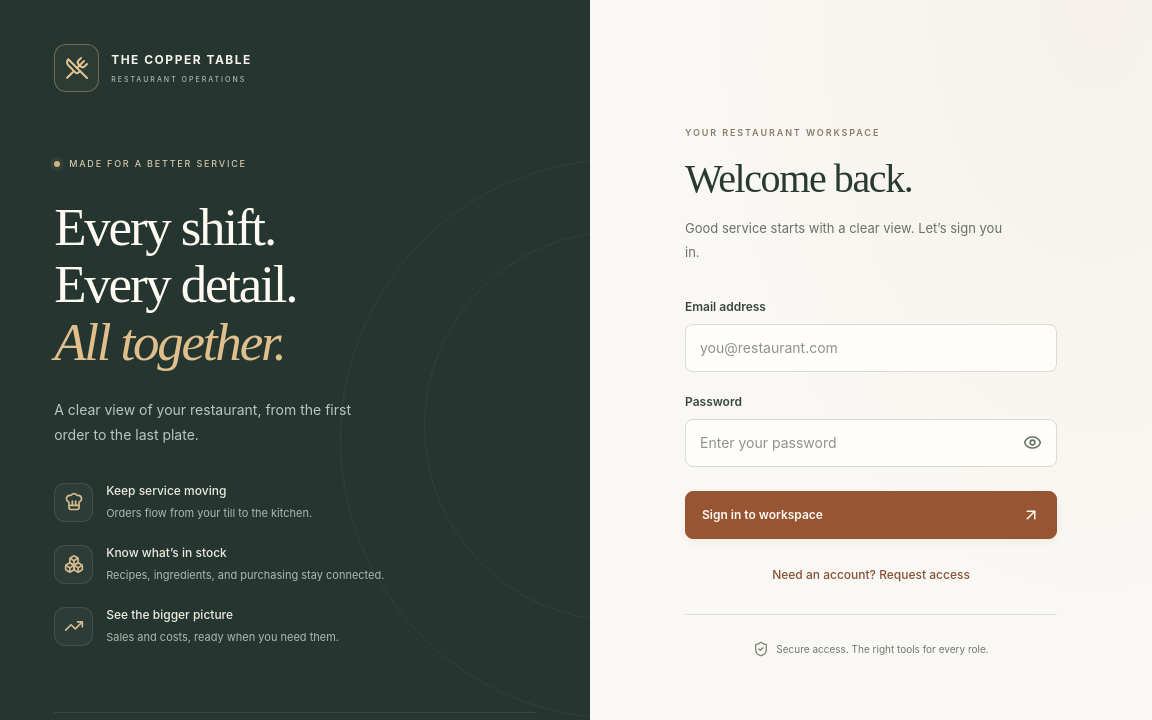
Test: restaurant sign-in › lets the user inspect their password and warns about Caps Lock
Type " OWNER@EXAMPLE.TEST " into the field labelled "Email address". click: [871, 348]
box: [685,324,1057,372]
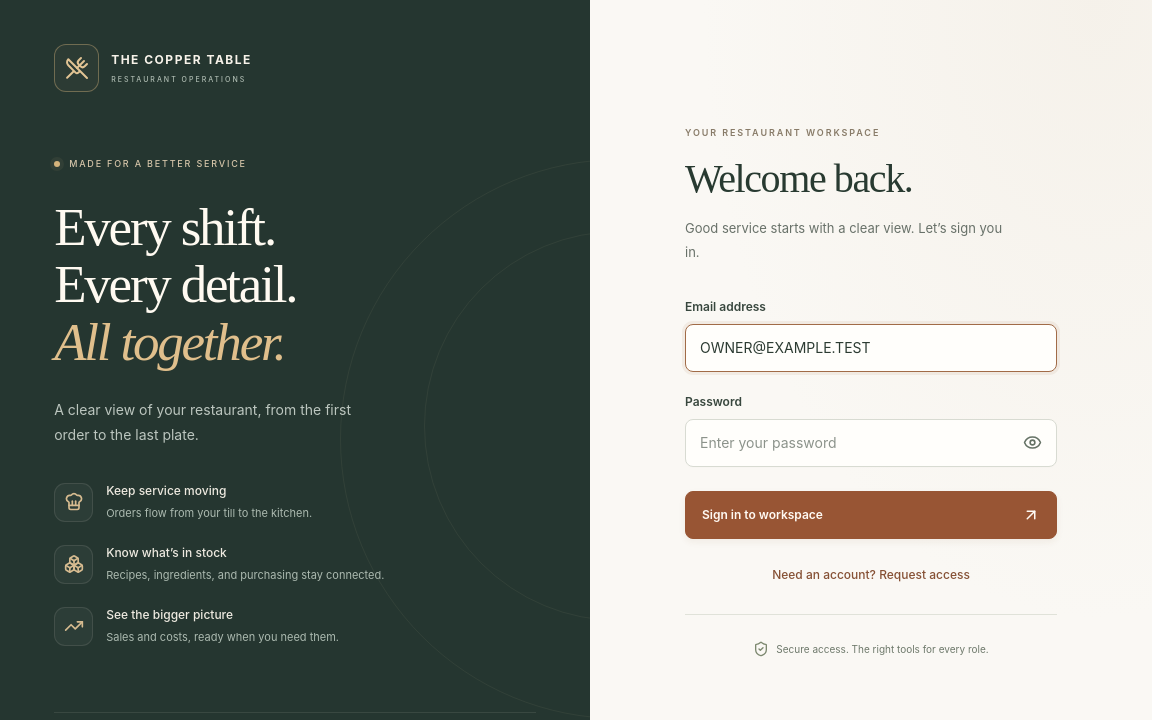
Type "a-long-password" into the password field labelled "Password". click: [871, 443]
box: [685,419,1057,467]
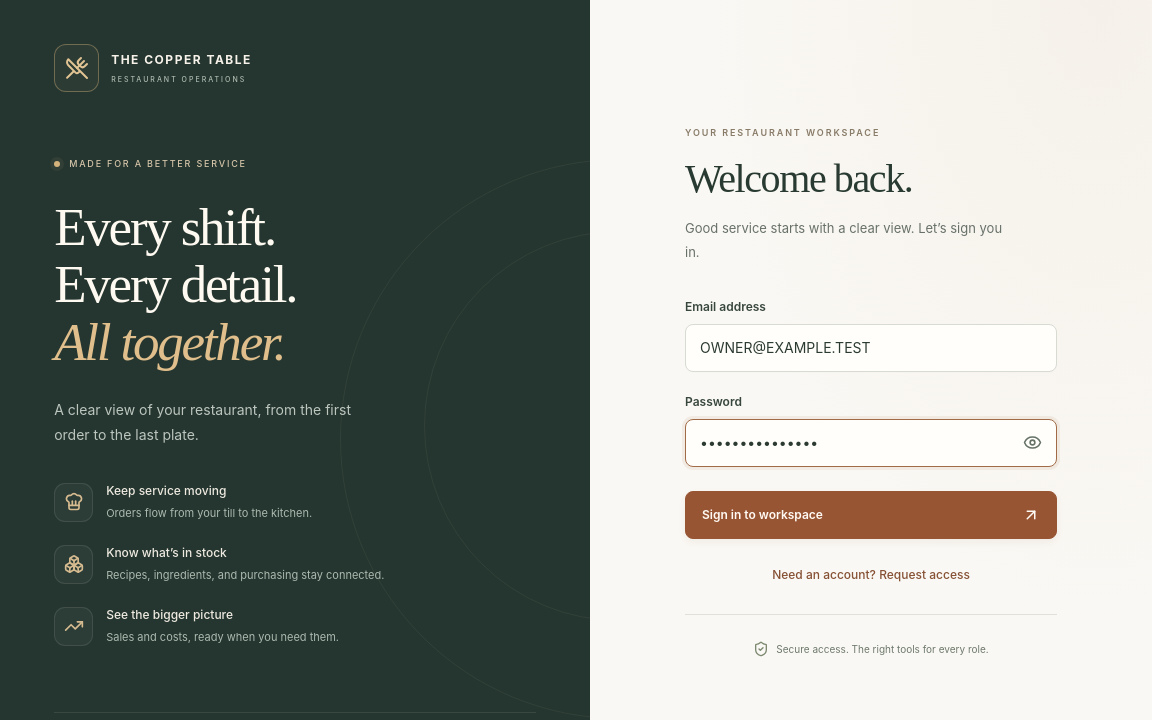
Click the button named "Show password". click: [1032, 443]
box: [1012,423,1052,463]
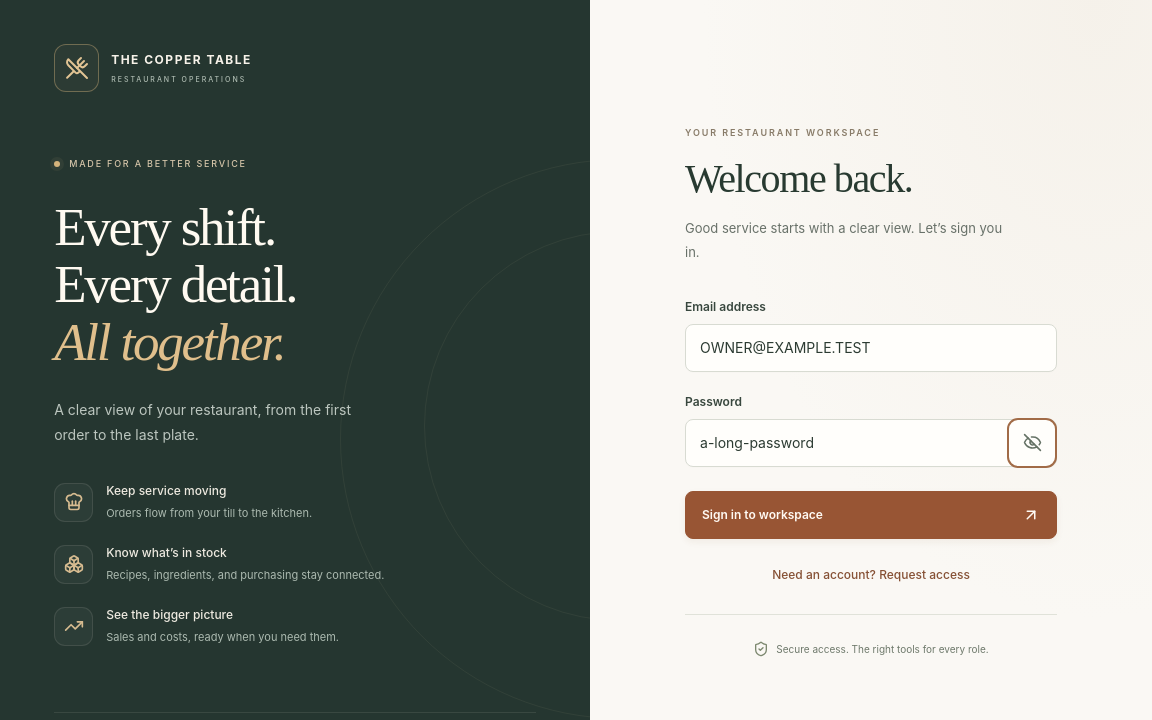
Expected: the field labelled "Password" shows its text, [685,419,1057,467]
Click the button named "Hide password". click: [1032, 443]
box: [1012,423,1052,463]
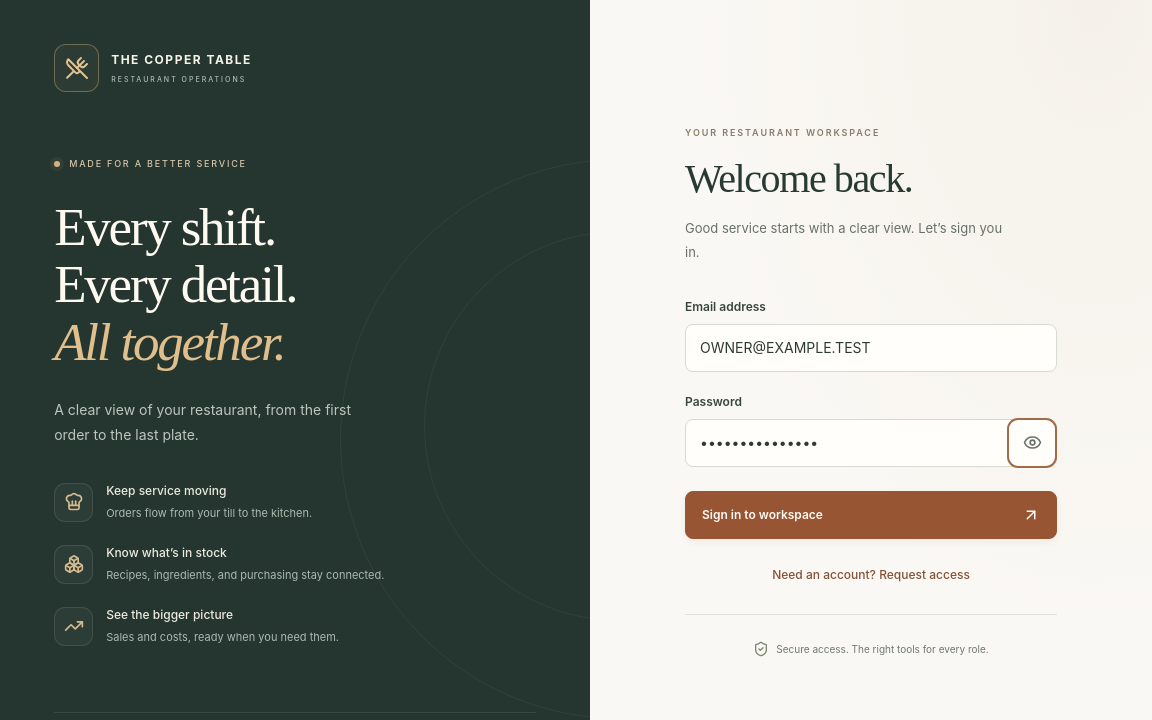
Expected: the password field labelled "Password" hides its text
Press A in the password field labelled "Password", box [685,419,1057,467]
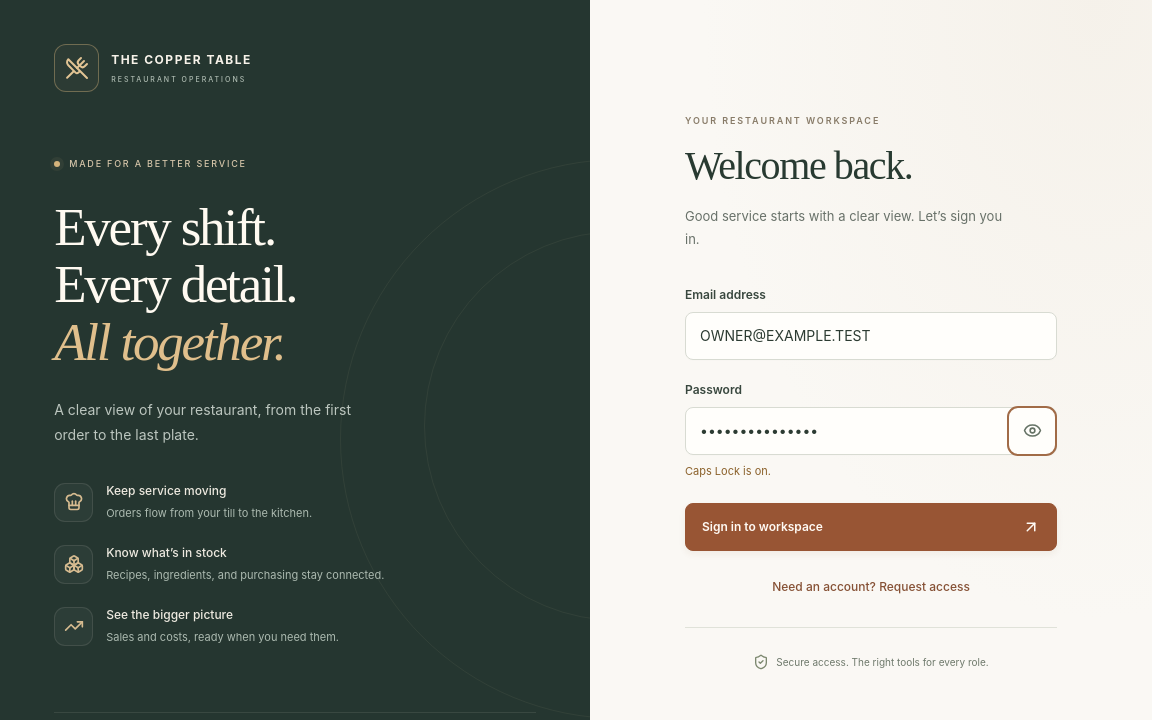
Expected: the message reads "Caps Lock is on.", [685,464,771,478]
Leave the password field labelled "Password", box [685,407,1057,455]
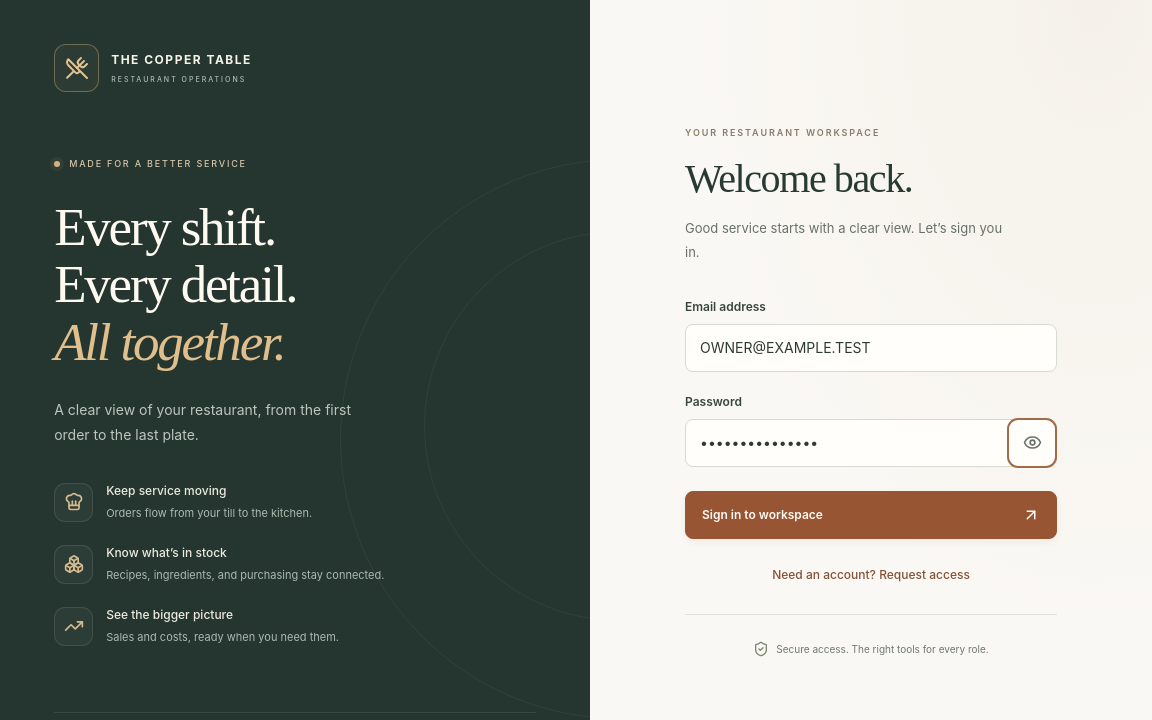
Expected: the text "Caps Lock is on." is gone
